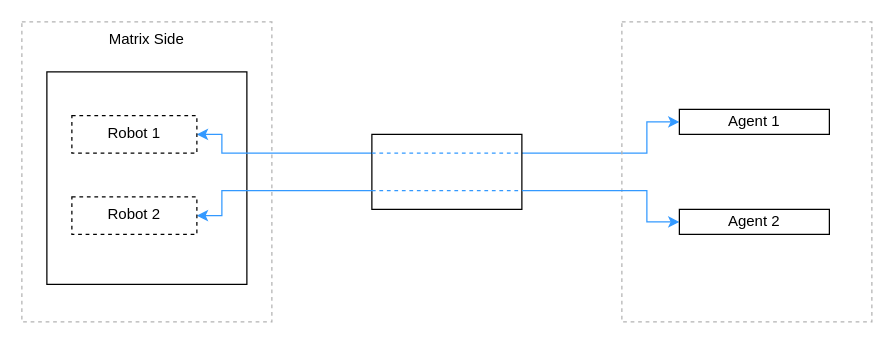
This 894x344 diagram has some shape labels left out. Each missing label, with the box of its shape:
Engine: (371, 133, 522, 209)
Renderer: (46, 71, 247, 284)
World Side: (621, 21, 872, 322)
